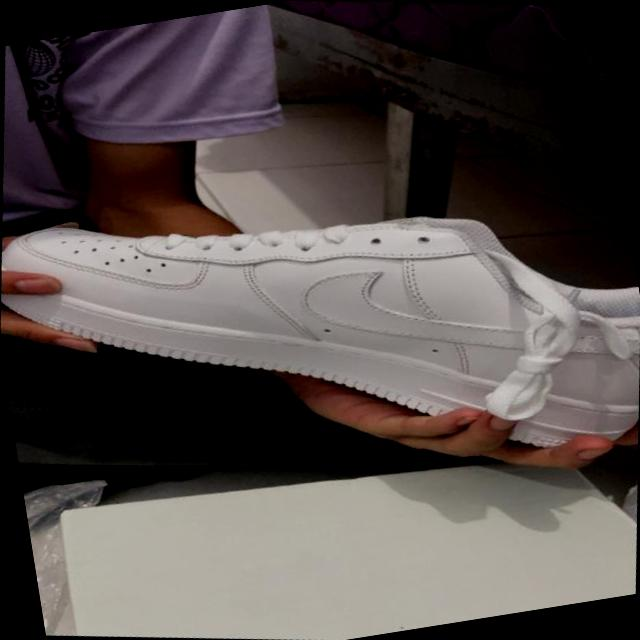nike_original_airforce: (0, 110, 640, 545)
